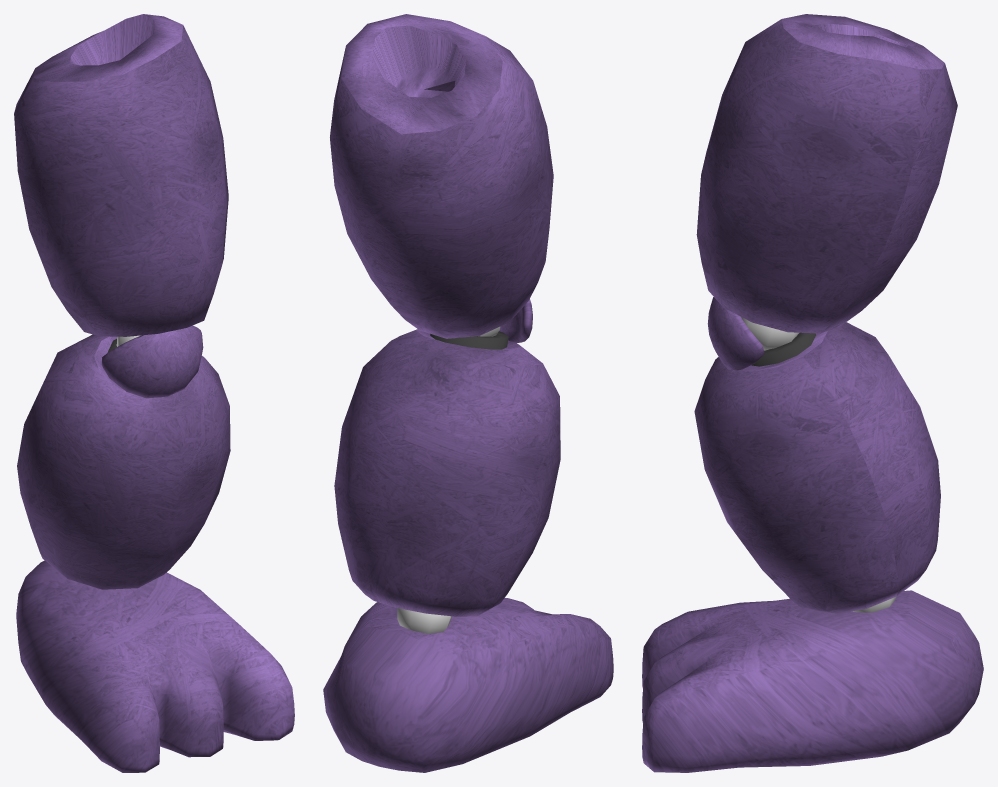
File: pIzqBunny.obj
3 views of the same model, side by side, from view 1: azimuth 30°, elevation 25°; view 2: azimuth 150°, elevation 25°; view 3: azimuth 270°, elevation 25° (orthographic). The views are drawn at different scales.
Parts seen in each view (by area): view 1: Object_14.003; view 2: Object_14.003, Object_8.003; view 3: Object_14.003, Object_8.003.
Part boxes in pixels (x1=…): Object_14.003: x1=14, y1=14, x2=294, y2=772; Object_14.003: x1=323, y1=14, x2=613, y2=772; Object_8.003: x1=397, y1=326, x2=508, y2=633; Object_14.003: x1=642, y1=14, x2=983, y2=772; Object_8.003: x1=741, y1=317, x2=896, y2=612.
Size of the model in its own units: 0.821 by 2.68 by 1.15.
2 materials, 2 textured.
